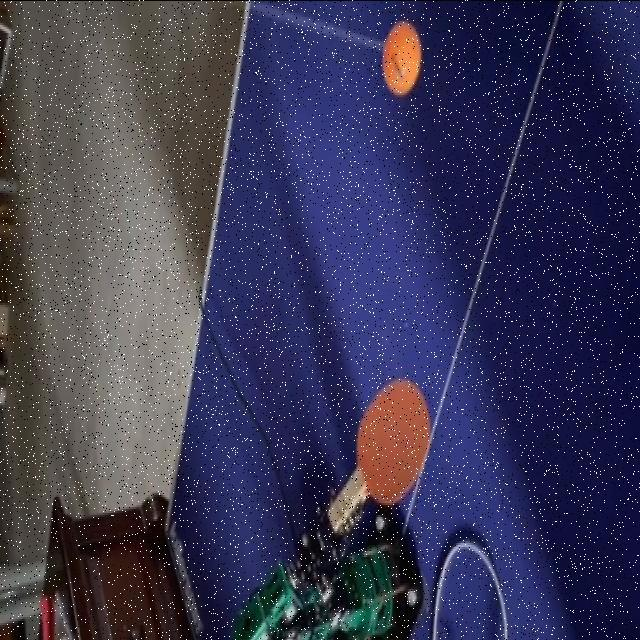ping-pong-ball: (380, 26, 420, 96)
